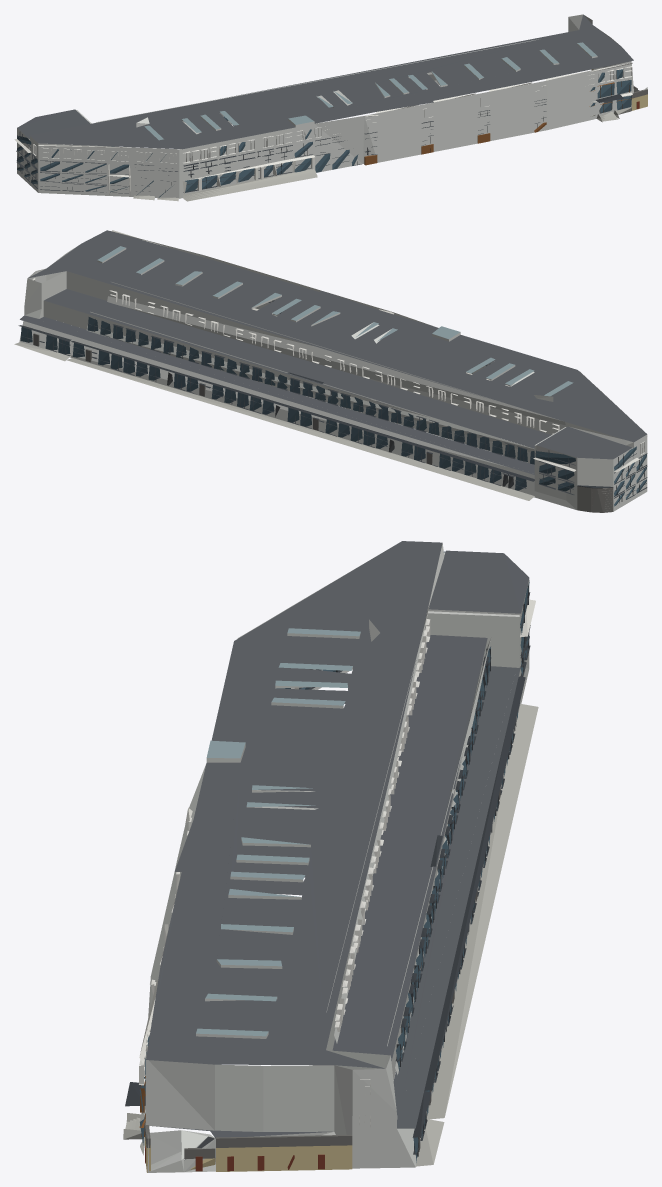
File: loods-6.lod1.glb
The picture shows the model from 3 angles, top to bottom: view 1: azimuth 30°, elevation 25°; view 2: azimuth 150°, elevation 25°; view 3: azimuth 270°, elevation 25°; orthographic projection. The views are drawn at different scales.
Parts seen in each view (by area): view 1: loods-6; view 2: loods-6; view 3: loods-6.
Boxes of the visible parts, x1,y1,x2,y2 form: loods-6: (14, 14, 647, 201); loods-6: (14, 230, 647, 512); loods-6: (123, 541, 538, 1172).
Bounding box in the file's own units: 184 × 17.43 × 60.28.
